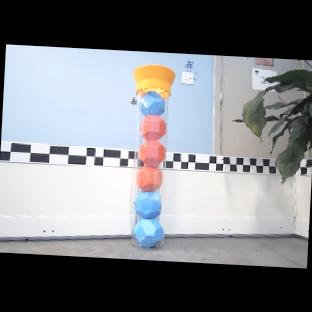Loader: (124, 63, 175, 248)
V5_BLUE: (132, 216, 165, 247), (132, 190, 163, 217), (139, 87, 166, 113)
V5_RED: (136, 112, 165, 139), (137, 138, 165, 165), (135, 164, 163, 190)
